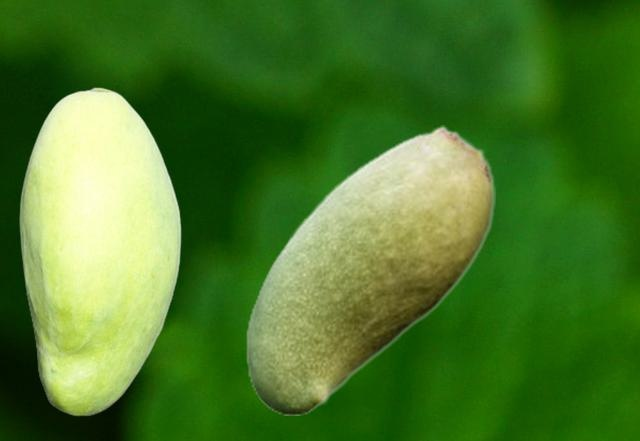green_mango: (245, 125, 494, 414), (19, 87, 180, 415)
